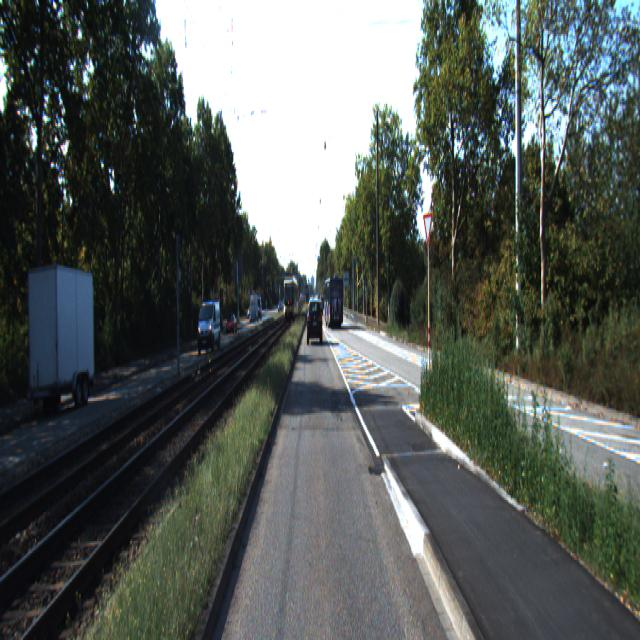Car: (27, 265, 97, 419), (196, 300, 222, 355), (322, 276, 343, 330), (308, 298, 322, 344)
